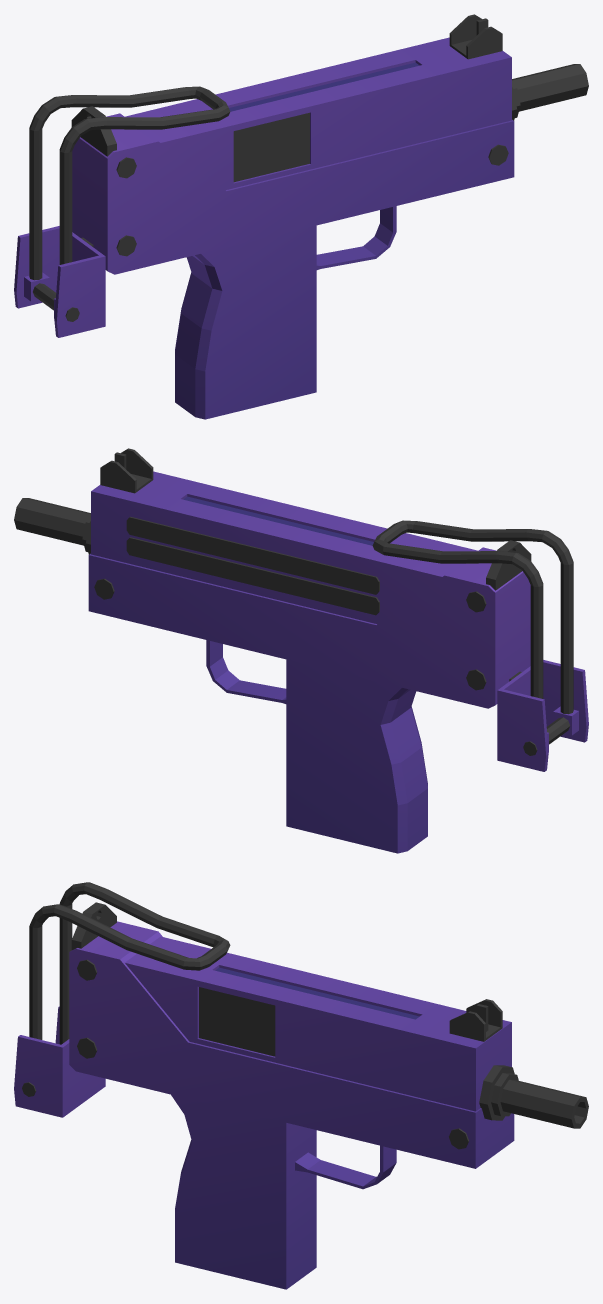
Rendered from SMG1_05.fbx.
The picture shows the model from 3 angles, top to bottom: view 1: azimuth 30°, elevation 25°; view 2: azimuth 150°, elevation 25°; view 3: azimuth 330°, elevation 25°; orthographic projection.
Visible parts, largest first — view 1: SMG1_05; view 2: SMG1_05; view 3: SMG1_05.
Boxes of the visible parts, x1=… form: SMG1_05: x1=14, y1=14, x2=588, y2=419; SMG1_05: x1=14, y1=448, x2=588, y2=853; SMG1_05: x1=14, y1=882, x2=588, y2=1289.
Bounding box in the file's own units: 0.2805 × 0.162 × 0.0396.
